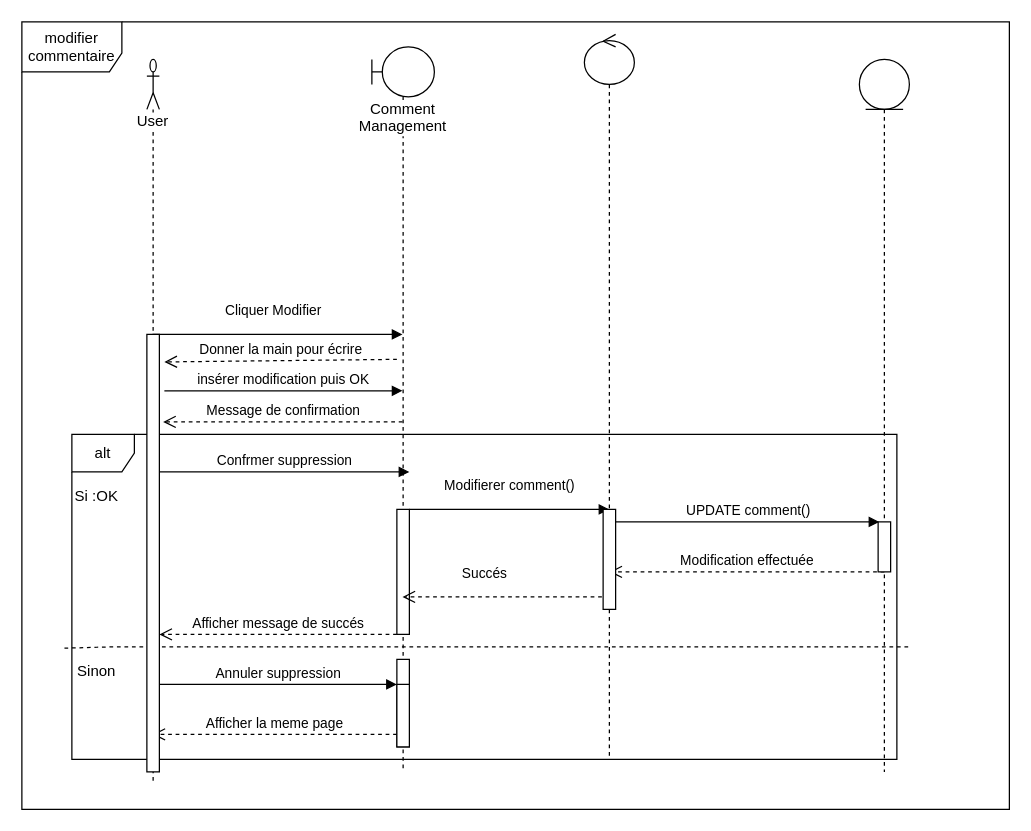
Some shapes in this 1031 by 831 pixel diagram are drawn without their labels. The box of each missing label's shape, as (x1, y1, x2, y2) in pixels:
Comment: (858, 58, 909, 772)
Comment Management controller: (583, 33, 634, 759)
